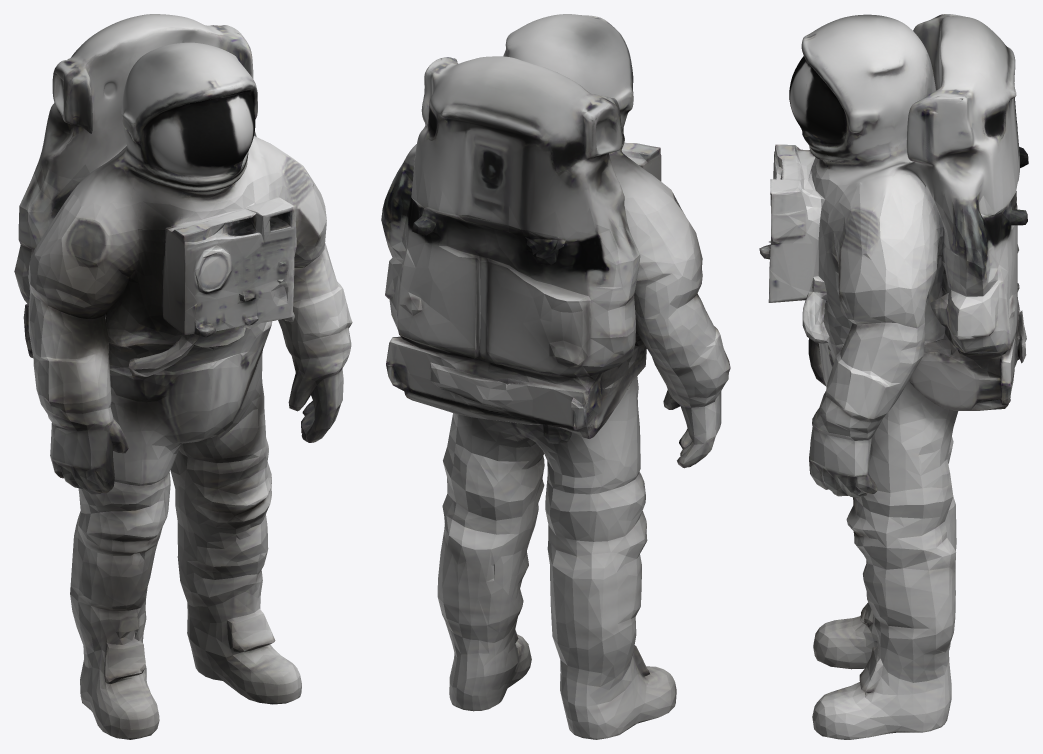
The model's file is helmet.glb.
3 views of the same model, side by side, from view 1: azimuth 30°, elevation 25°; view 2: azimuth 150°, elevation 25°; view 3: azimuth 270°, elevation 25° (orthographic). The views are drawn at different scales.
Parts seen in each view (by area): view 1: world; view 2: world; view 3: world.
Part boxes in pixels (x1,y1,x2,y2): world: (14,14,352,739); world: (381,14,730,739); world: (759,14,1028,739).
Bounding box in the file's own units: 0.4885 × 0.9991 × 0.3648.
Materials: 1 (1 with a texture image).
